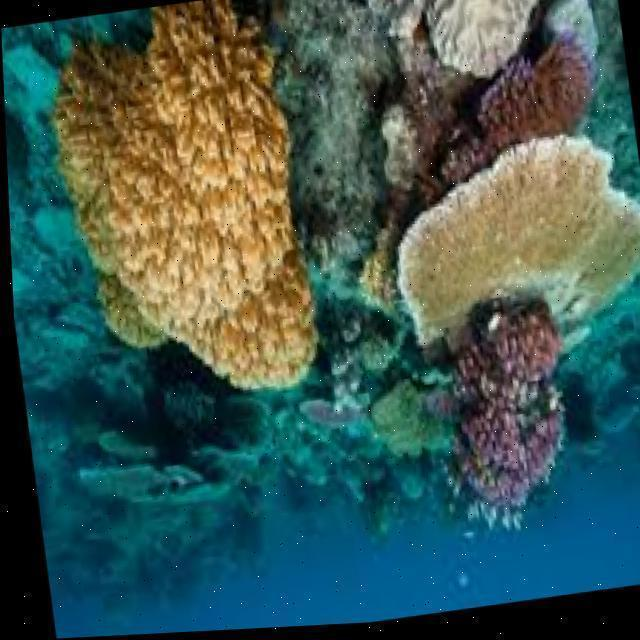Healthy Coral: (367, 66, 639, 507), (66, 27, 341, 382)
